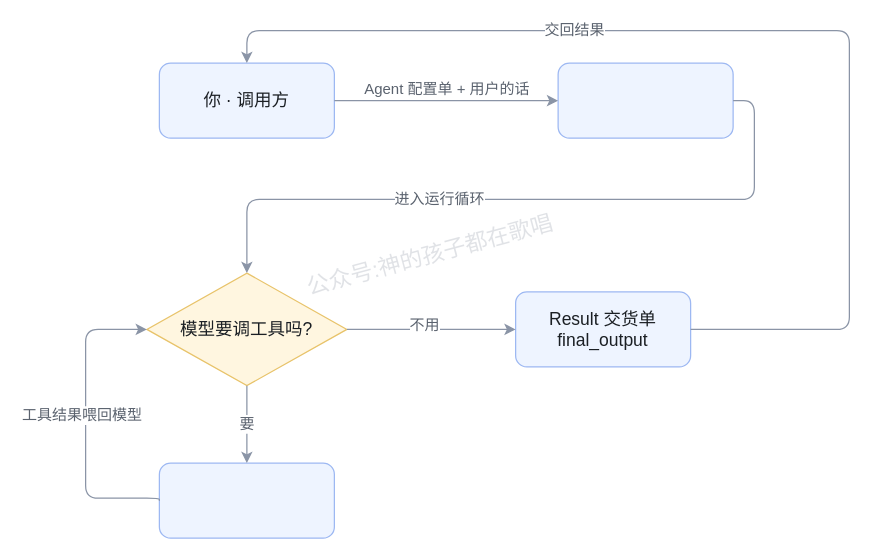
The diagram is 881 pixels wide and 560 high, and some of its shapes have lost their labels. The centre of each missing label's shape, as x and y in pixels:
"Runner 工人" belongs at (645,100).
"执行工具" belongs at (246,500).
